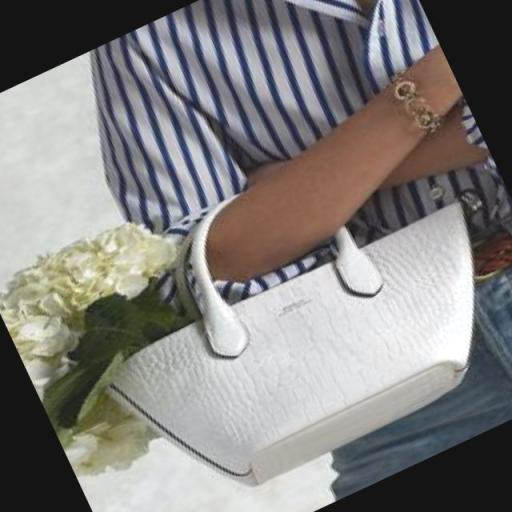bag: (98, 194, 492, 484)
